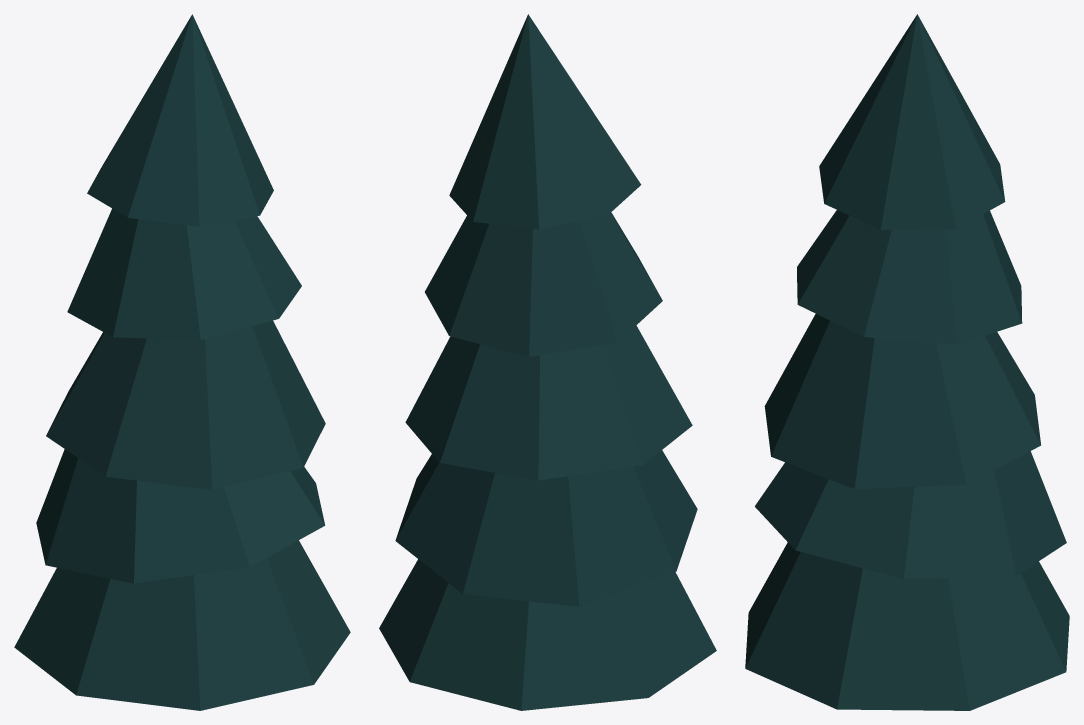
File: tree.fbx
3 renders of one model, left to right at view 1: azimuth 30°, elevation 25°; view 2: azimuth 150°, elevation 25°; view 3: azimuth 270°, elevation 25°, orthographic. The views are drawn at different scales.
Visible parts, largest first — view 1: Tree; view 2: Tree; view 3: Tree.
Boxes of the visible parts, box(x1,y1,x2,y2) form: Tree: box(14, 14, 350, 710); Tree: box(379, 14, 716, 710); Tree: box(745, 14, 1069, 710).
Bounding box in the file's own units: 1.64 × 3.55 × 1.64.
